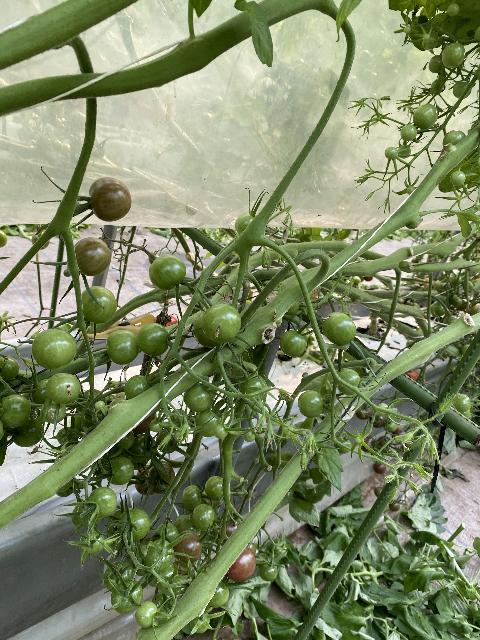l_fully_ripened: (225, 546, 256, 583)
l_green: (32, 329, 77, 370), (200, 303, 242, 344), (148, 254, 187, 291), (81, 286, 117, 323), (321, 312, 357, 345), (111, 580, 144, 615), (46, 373, 81, 405), (106, 330, 138, 365), (117, 508, 150, 541), (137, 322, 169, 356), (1, 395, 32, 428), (104, 560, 135, 593), (192, 312, 220, 348), (183, 382, 214, 413), (88, 487, 118, 519), (11, 419, 44, 448), (146, 539, 174, 572), (71, 499, 103, 527), (105, 456, 134, 485), (129, 434, 157, 462), (195, 409, 222, 438), (297, 390, 324, 418), (124, 375, 154, 400), (280, 330, 307, 357), (170, 575, 195, 603), (41, 398, 67, 424), (79, 530, 105, 556), (412, 103, 438, 129), (151, 591, 177, 617), (239, 376, 267, 400), (155, 567, 179, 595), (335, 369, 360, 395), (442, 42, 466, 69), (135, 600, 158, 628), (191, 504, 215, 530), (207, 581, 230, 608), (154, 523, 179, 547), (157, 427, 179, 454), (0, 356, 20, 382), (57, 426, 80, 448), (32, 379, 50, 407), (205, 476, 225, 500), (183, 485, 201, 510), (235, 215, 256, 236), (190, 611, 210, 633), (443, 130, 466, 149), (259, 562, 278, 582), (452, 80, 472, 99), (117, 431, 134, 449), (399, 124, 417, 141), (429, 55, 443, 73), (450, 171, 466, 186), (214, 424, 228, 440), (242, 428, 256, 442), (397, 145, 411, 159), (446, 2, 460, 16), (149, 419, 163, 432), (384, 147, 397, 159), (377, 403, 388, 417), (94, 400, 106, 411), (407, 185, 415, 195), (403, 25, 411, 34), (355, 436, 362, 444), (423, 34, 431, 41)
l_half_ripened: (88, 177, 132, 223), (74, 236, 111, 277), (173, 529, 203, 563), (147, 463, 176, 495), (135, 464, 154, 495)
